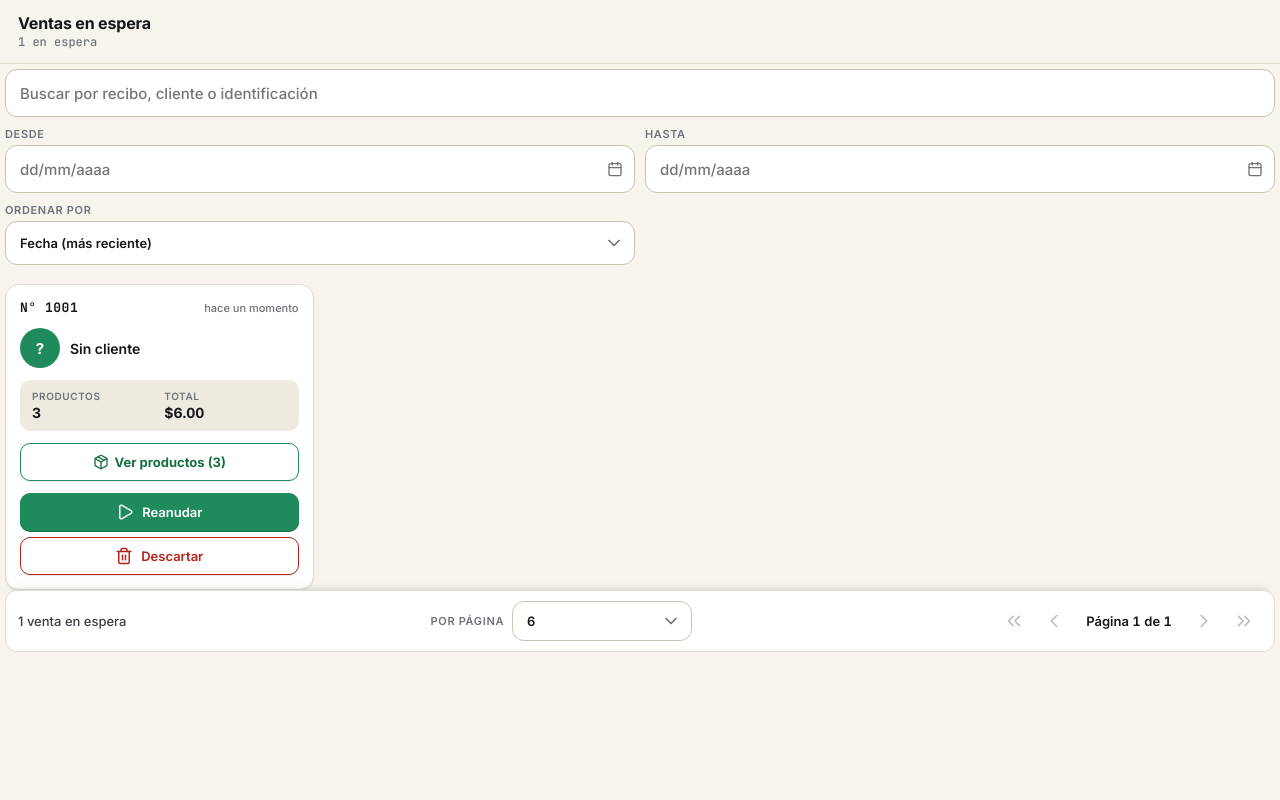
StoredCartsScreen — paused-product PRE-confirm before resume › multiple paused → pre-confirm lists each paused name as its own list item
The image size is (1280, 800).
Click the button "Reanudar": (159, 512) [20,493,298,531]
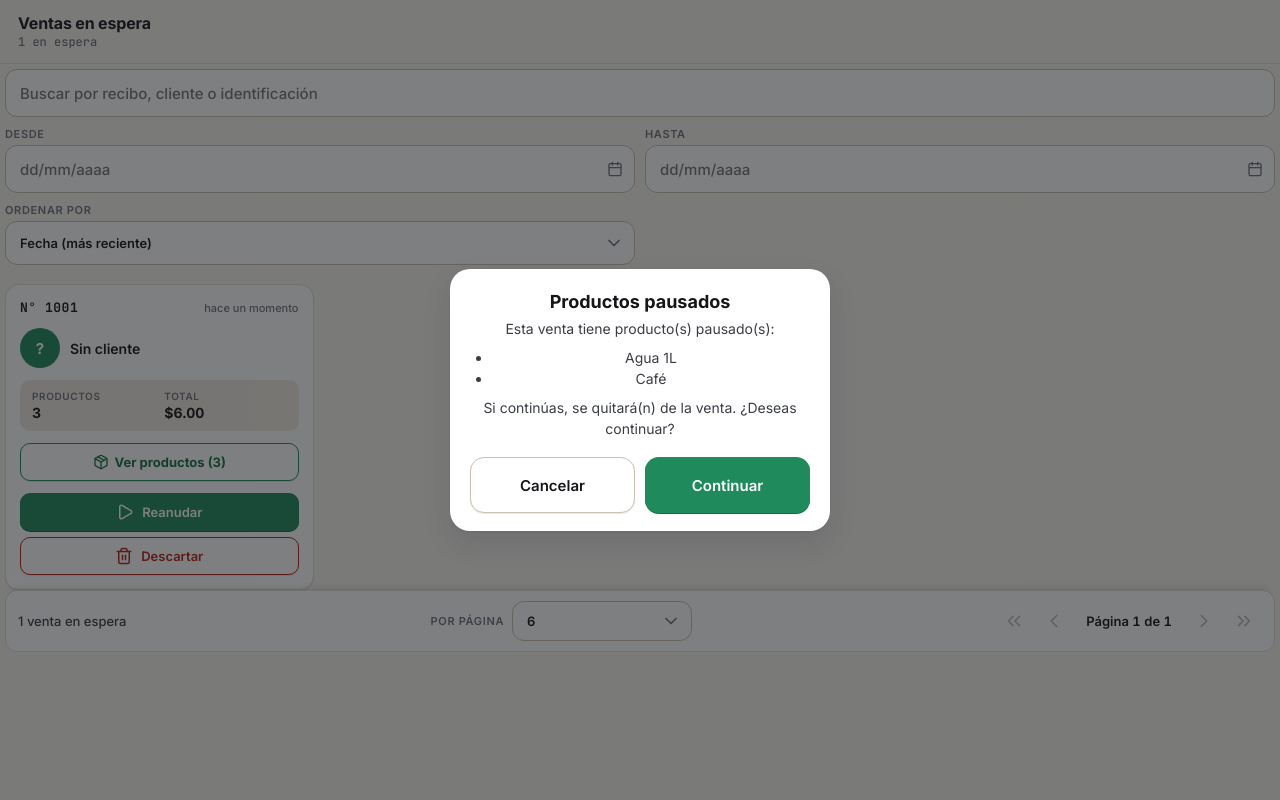
Now the text "Esta venta tiene producto(s) pausado(s):" is shown, box [505,320,775,337]
Now the list item "Agua 1L" is shown, box [625,349,677,366]
Now the list item "Café" is shown, box [636,370,666,387]
